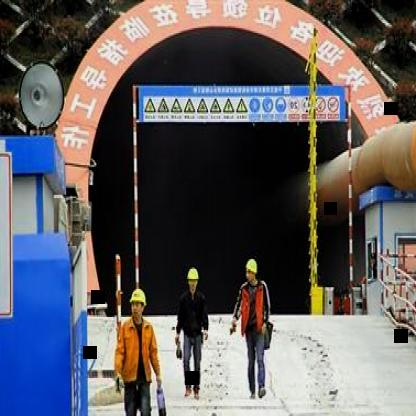helmet: (128, 286, 148, 324), (182, 266, 203, 294), (243, 256, 261, 286)
